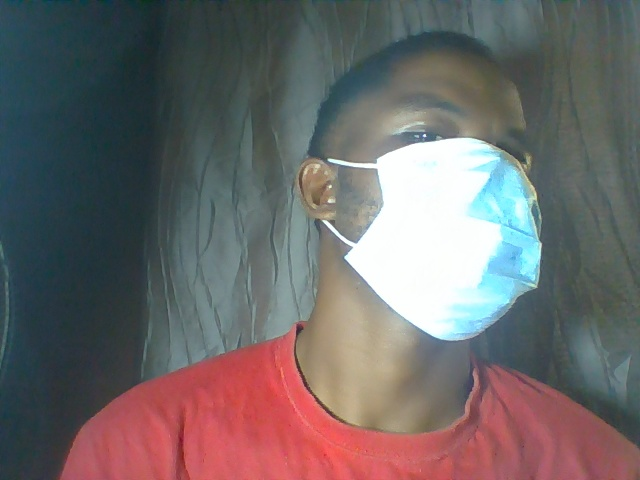MaskOn: (293, 22, 555, 346)
